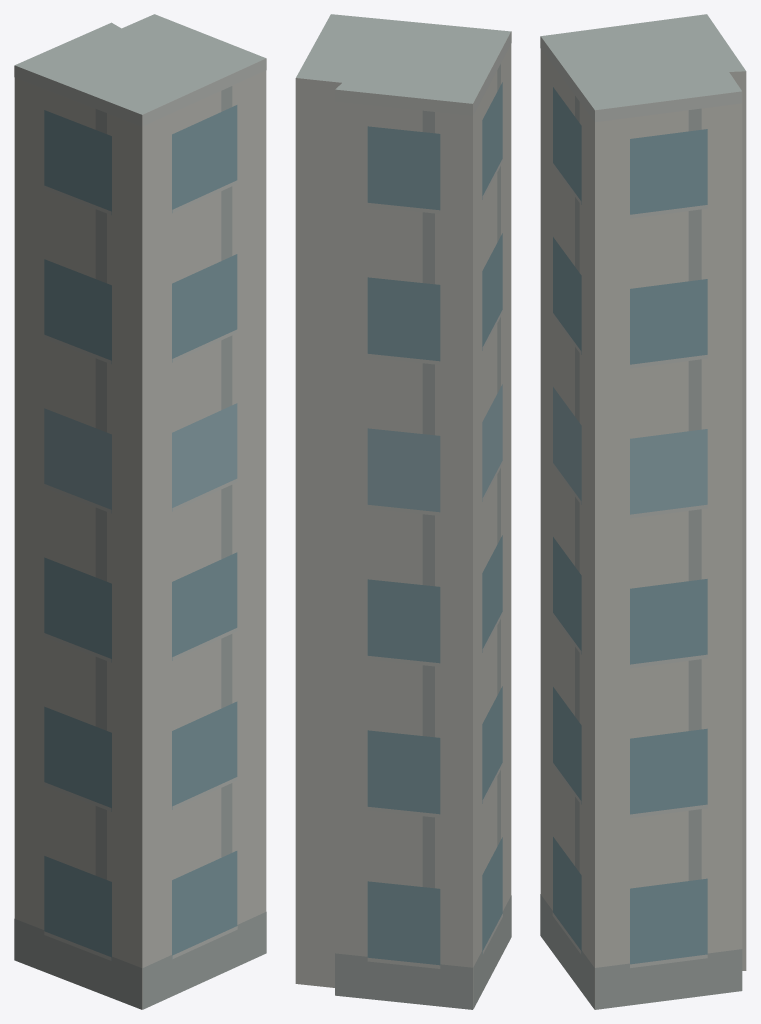
File: survey-upis-32840072.glb
3 renders of one model, left to right at view 1: azimuth 30°, elevation 25°; view 2: azimuth 150°, elevation 25°; view 3: azimuth 270°, elevation 25°, orthographic.
Visible parts, largest first — view 1: survey-upis-32840072.tmp; view 2: survey-upis-32840072.tmp; view 3: survey-upis-32840072.tmp.
Boxes of the visible parts, <box> form: survey-upis-32840072.tmp: <box>14,14,266,1009</box>; survey-upis-32840072.tmp: <box>295,14,511,1009</box>; survey-upis-32840072.tmp: <box>540,14,746,1009</box>.
Size of the model in its own units: 4.21 by 18.3 by 3.8.
